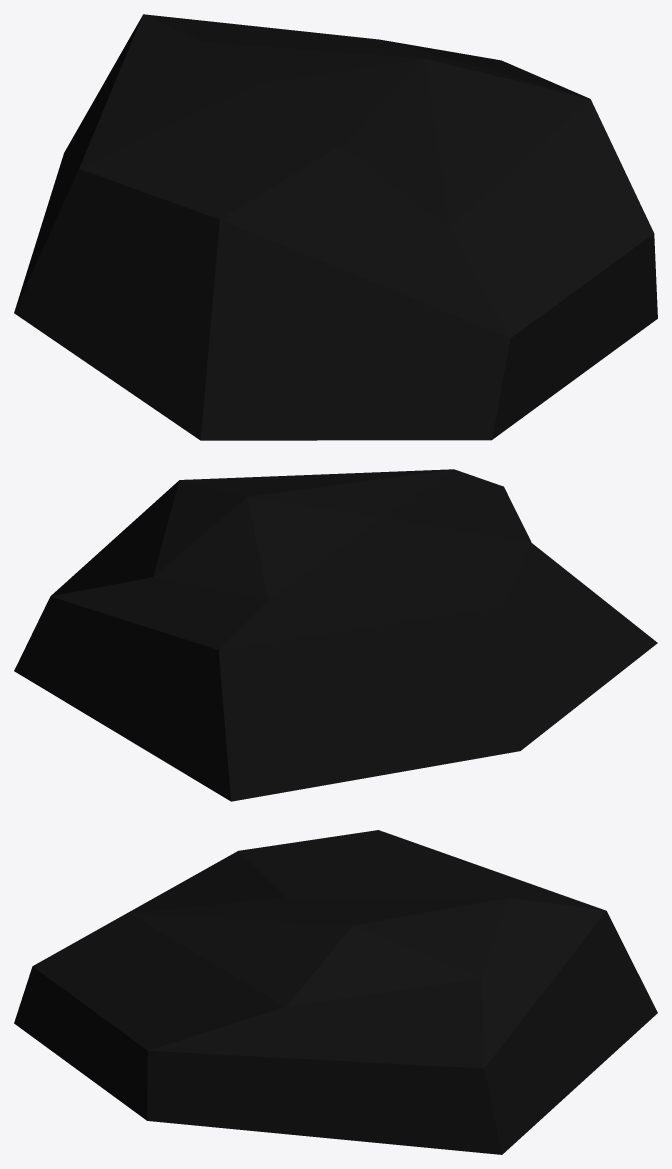
Rendered from Rock_1.fbx.
3 views of the same model, one above another, from view 1: azimuth 30°, elevation 25°; view 2: azimuth 150°, elevation 25°; view 3: azimuth 270°, elevation 25° (orthographic). The views are drawn at different scales.
Parts seen in each view (by area): view 1: Sphere.003; view 2: Sphere.003; view 3: Sphere.003.
Boxes of the visible parts, <box> form: Sphere.003: <box>14,14,657,440</box>; Sphere.003: <box>14,469,657,801</box>; Sphere.003: <box>14,830,657,1154</box>.
Bounding box in the file's own units: 196 × 63.76 × 242.
